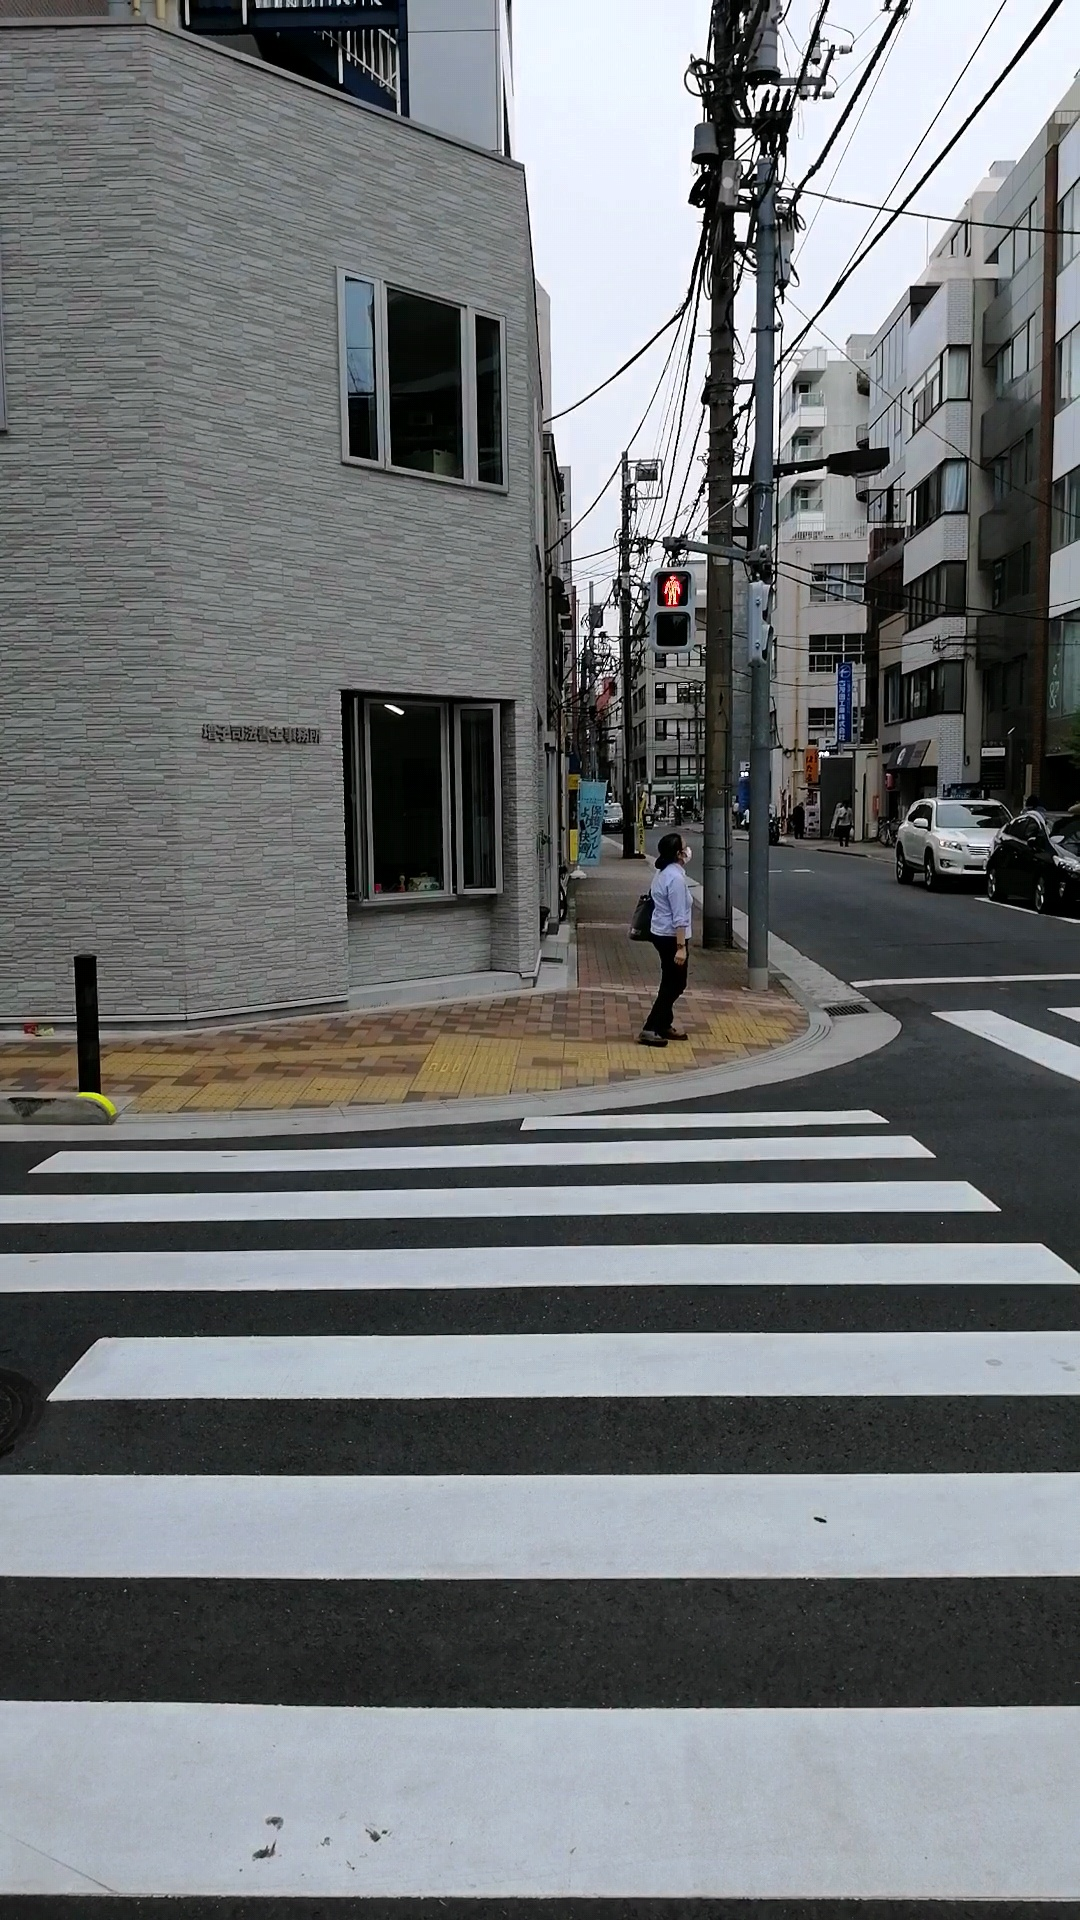red: (647, 568, 696, 651)
